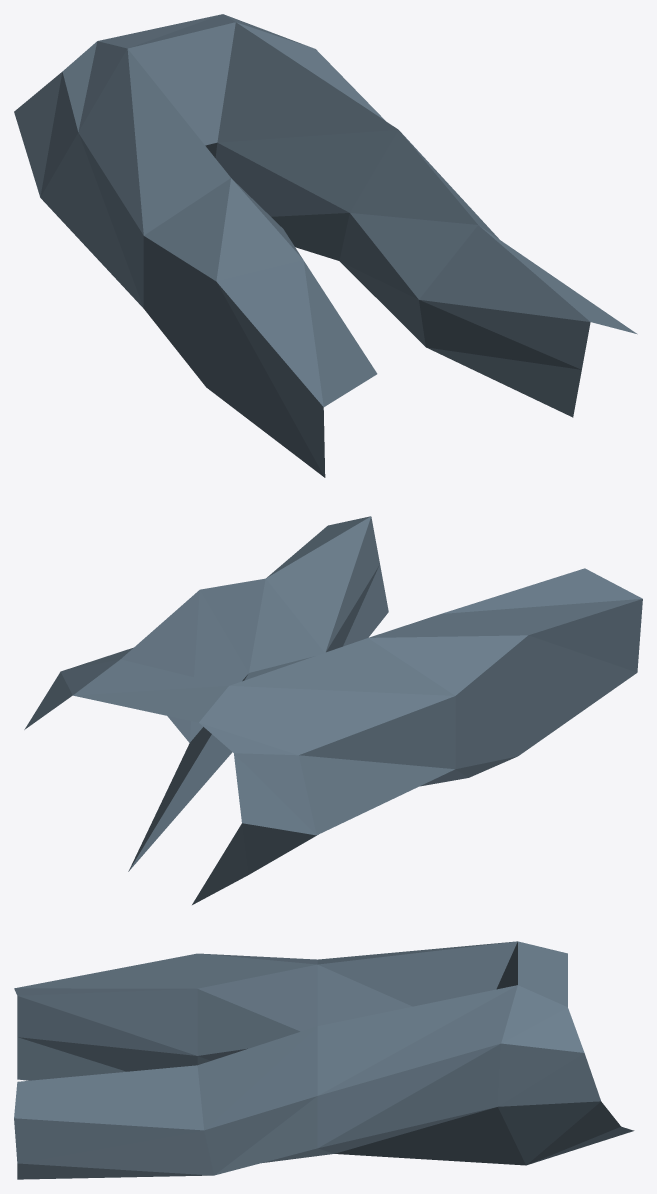
3 renders of one model, top to bottom at view 1: azimuth 30°, elevation 25°; view 2: azimuth 150°, elevation 25°; view 3: azimuth 270°, elevation 25°, orthographic. The views are drawn at different scales.
Size of the model in its own units: 0.575 by 0.3719 by 1.18.
1 material, 1 textured.
